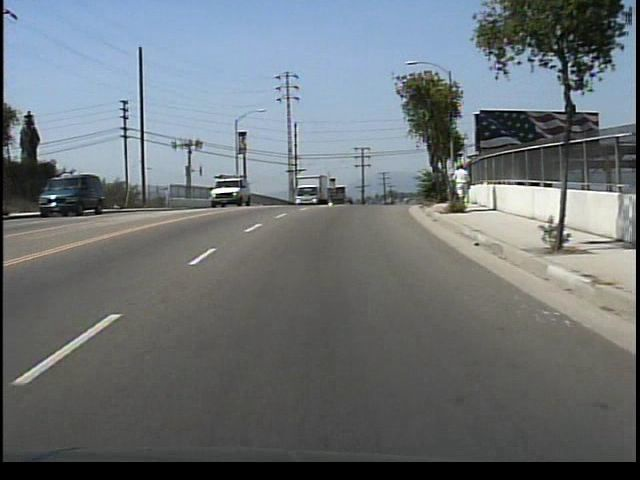person: (450, 162, 472, 197)
